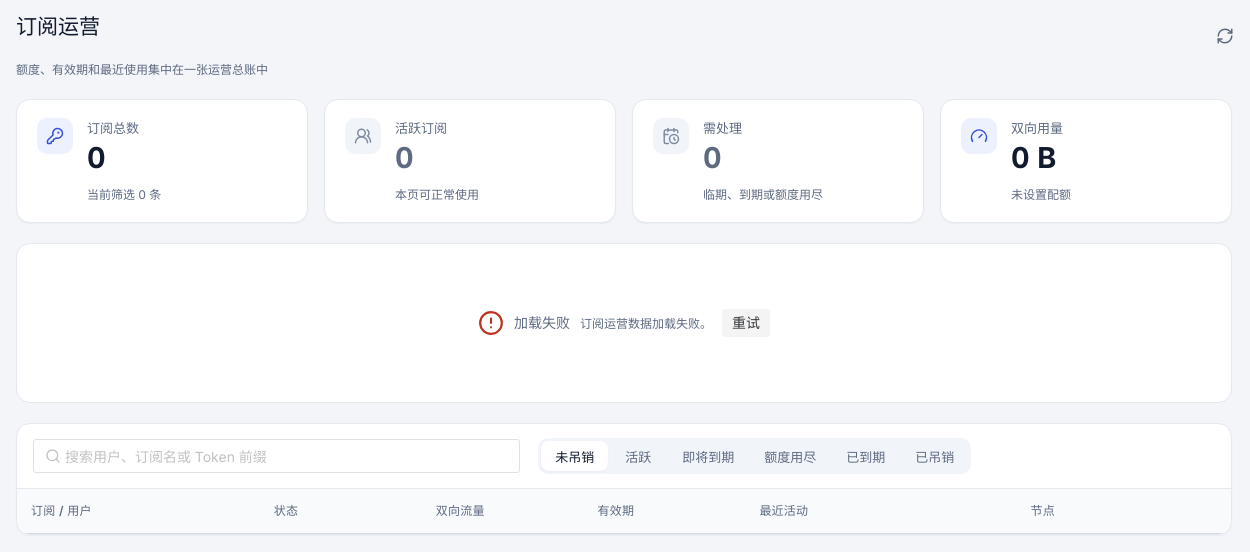
Test: SubscriptionDashboard › keeps a loading failure visible and lets the user retry
Check: the message "加载失败 订阅运营数据加载失败。 重试" is shown, box left=16, top=243, right=1232, bottom=403
Click the button "重试": point(746, 323) left=722, top=309, right=770, bottom=337
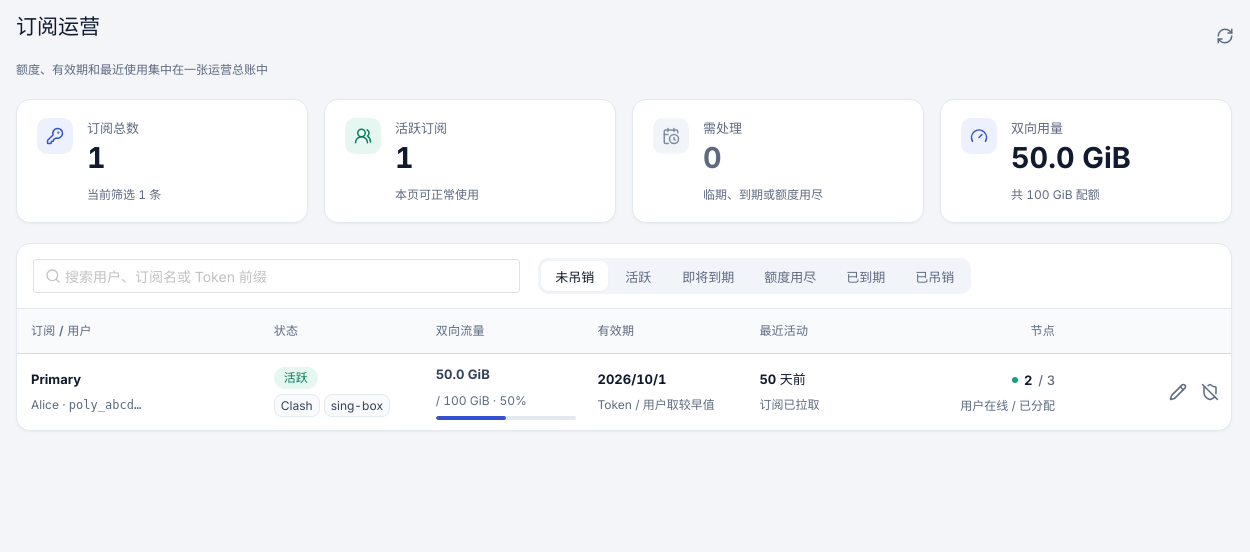
Check: the text "Alice" is shown, box left=31, top=396, right=69, bottom=412
